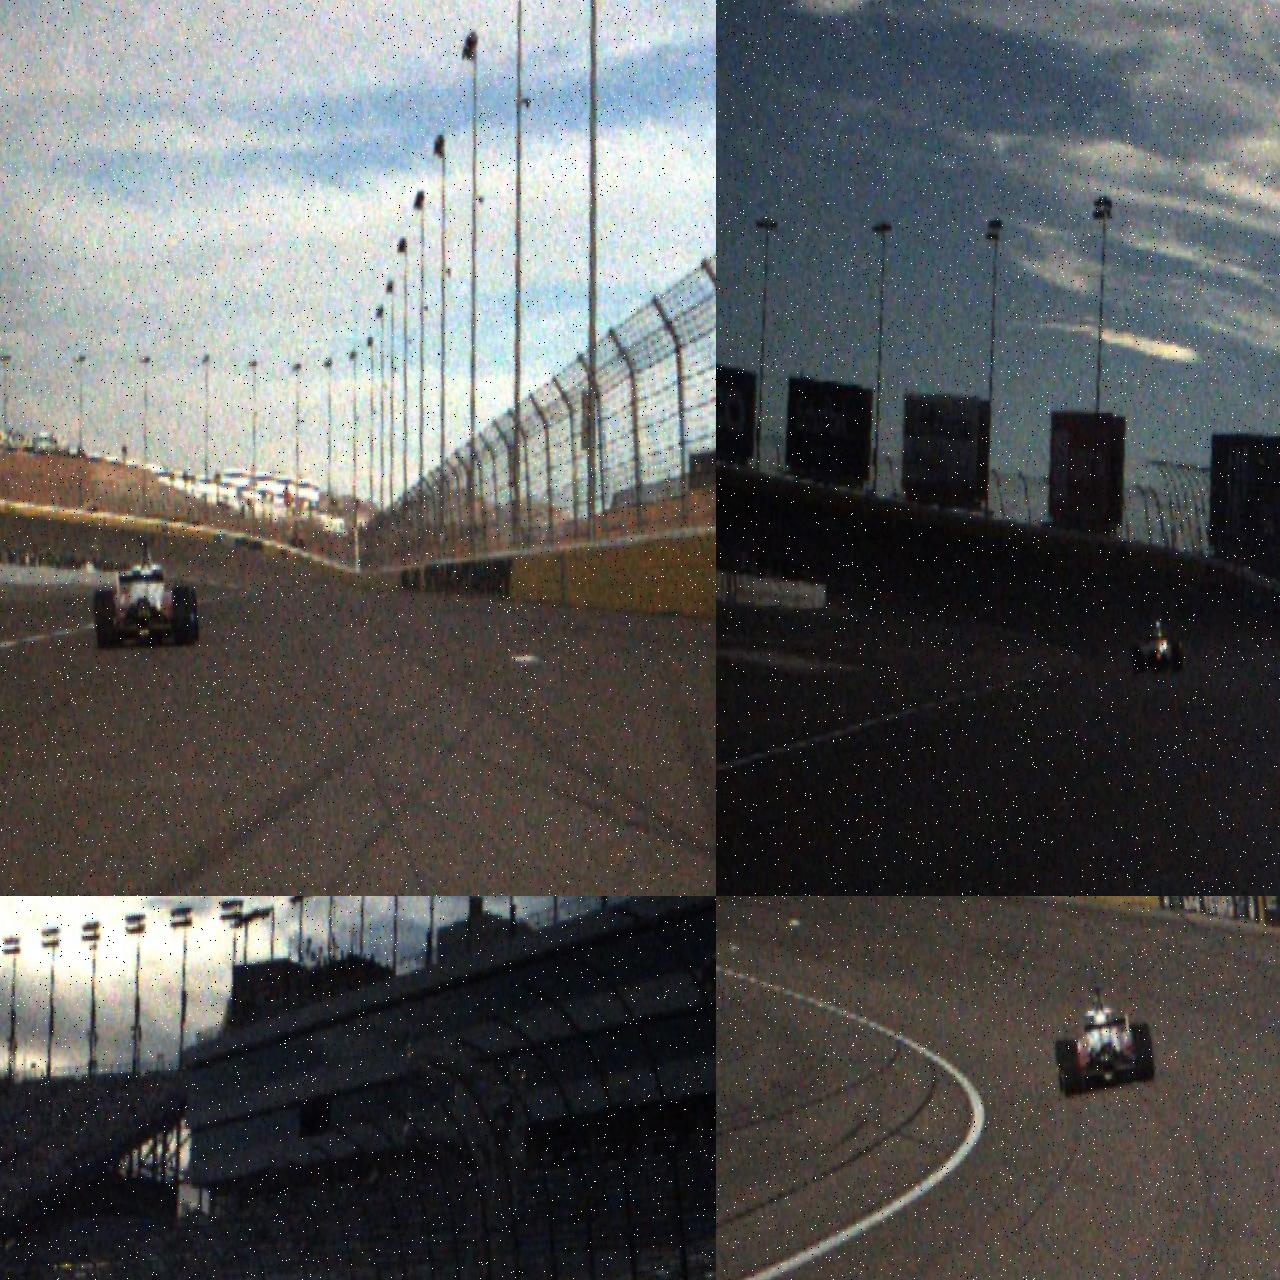AV: (90, 533, 200, 651), (1051, 982, 1155, 1096), (1130, 617, 1184, 676)
Wheel: (93, 588, 120, 649), (171, 585, 193, 645), (1133, 1021, 1155, 1081), (1061, 1046, 1080, 1096), (1171, 640, 1184, 674), (1132, 645, 1144, 675)
